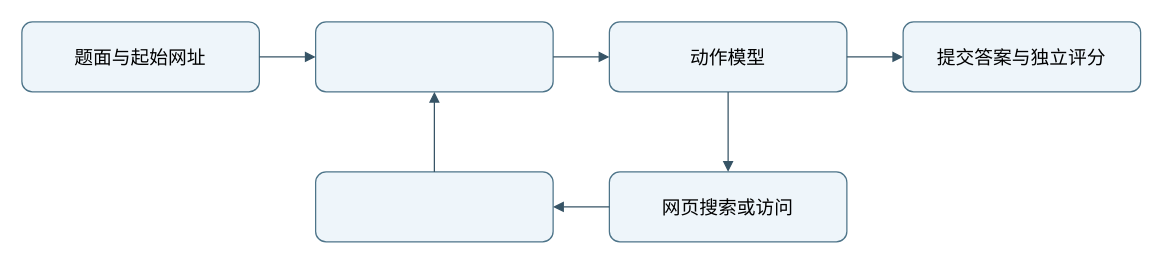
Image size: 1163x264. Some labels were removed from this diagram. Each missing label, with the centre of its shape:
"PACE 上下文构建" goes at [433,56].
"TAO 全文、向量与摘要" goes at [433,206].
